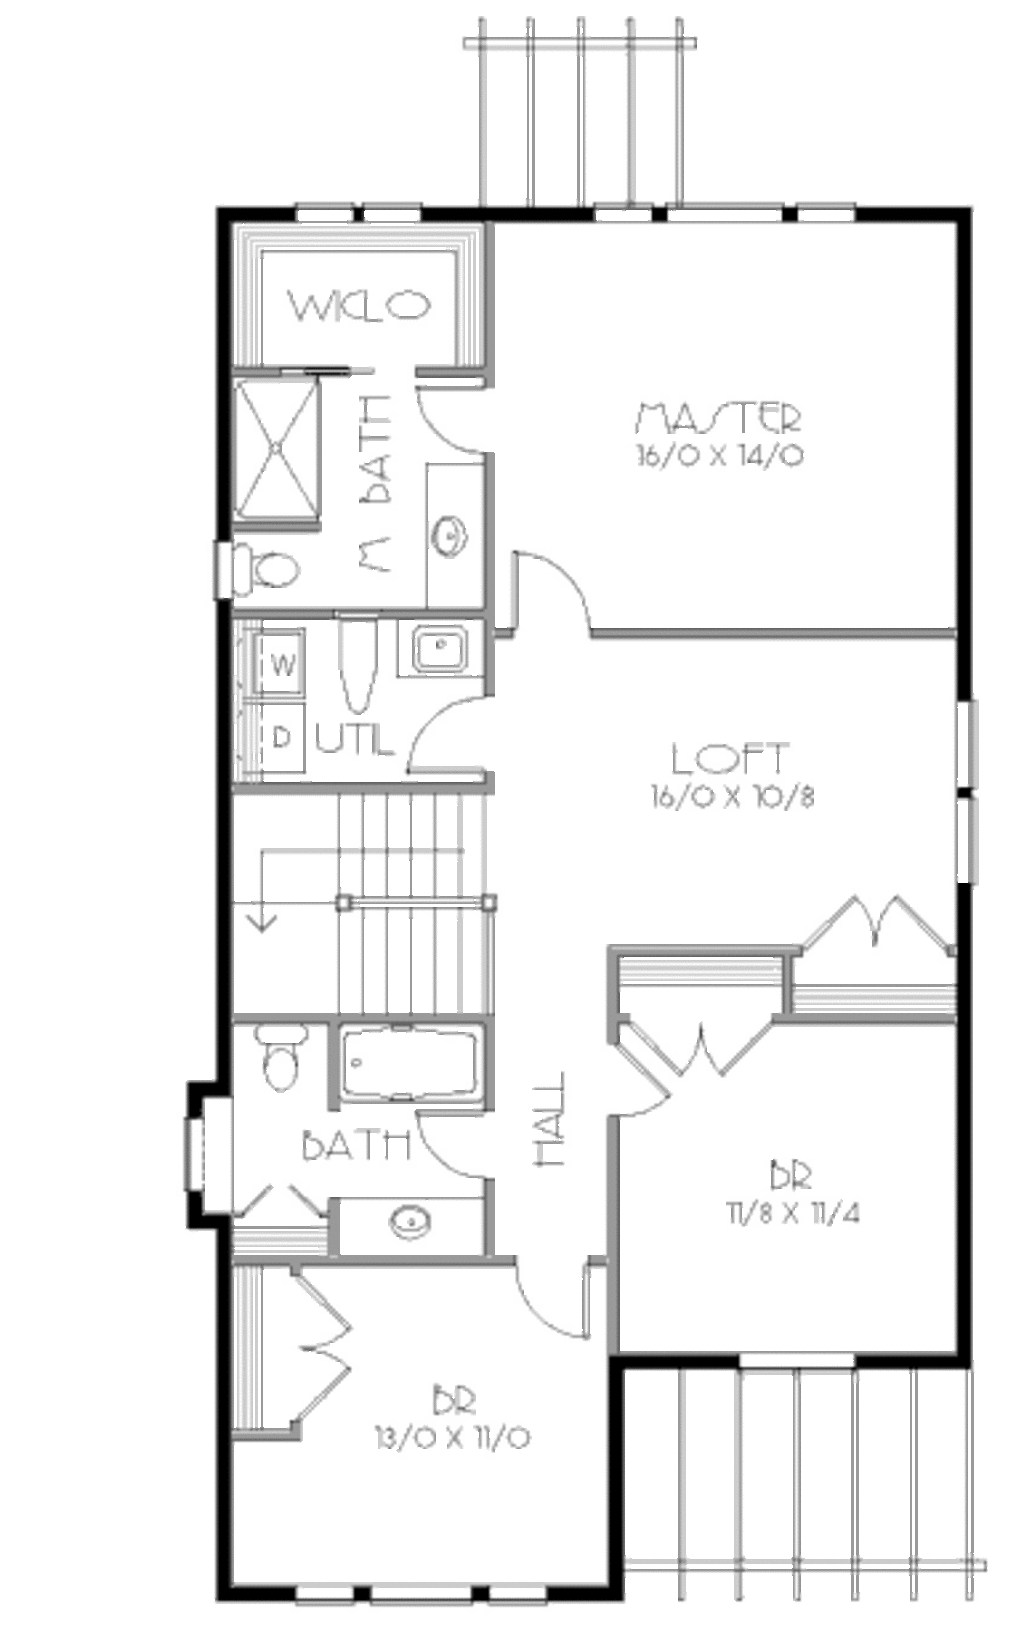door: (273, 1255, 376, 1427), (495, 535, 637, 660), (617, 977, 781, 1073), (802, 896, 953, 981), (507, 1247, 613, 1363), (399, 696, 508, 794), (602, 1030, 691, 1132), (402, 384, 508, 468), (409, 1109, 490, 1188)
large_sink: (212, 531, 314, 610), (235, 1018, 317, 1107), (327, 614, 386, 725)
small_sink: (403, 445, 503, 619), (324, 1186, 495, 1260), (390, 623, 484, 686)
stairs: (225, 786, 527, 1022)
tub: (322, 1025, 503, 1109)
window: (943, 689, 999, 904), (591, 199, 871, 241), (289, 1578, 550, 1614), (285, 191, 432, 237), (726, 1343, 855, 1384), (184, 1109, 214, 1207)
